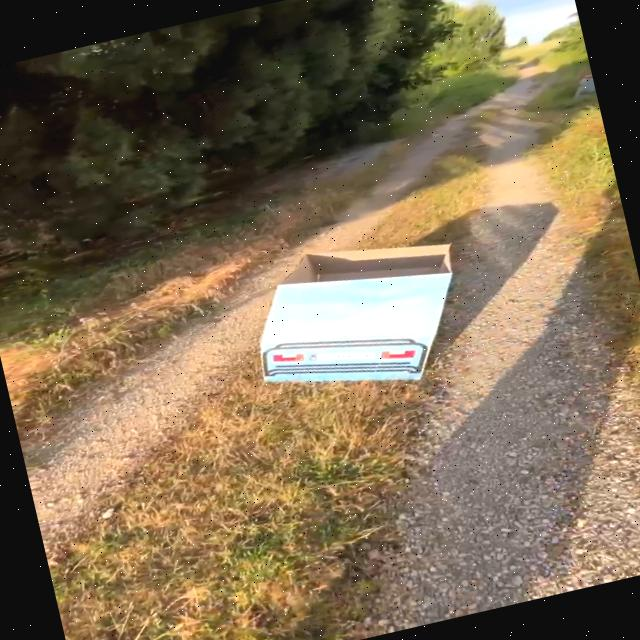blue_car: (197, 189, 511, 436)
